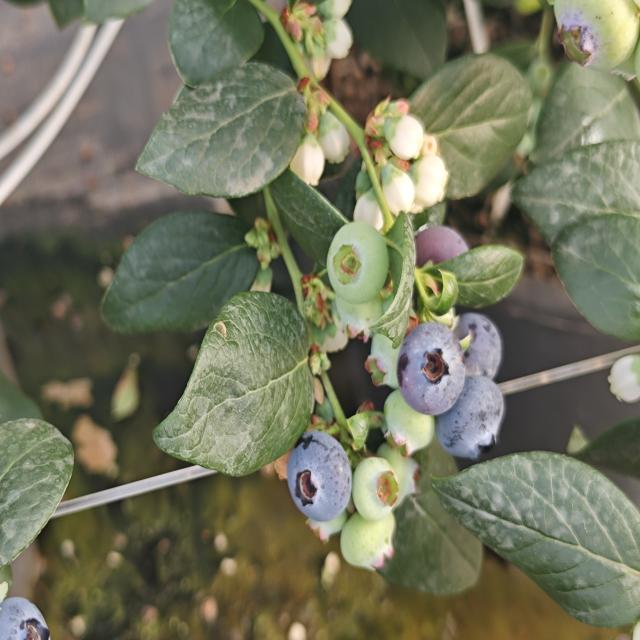ripe: (382, 319, 466, 422), (443, 367, 506, 460), (291, 437, 350, 522), (461, 312, 506, 372)
